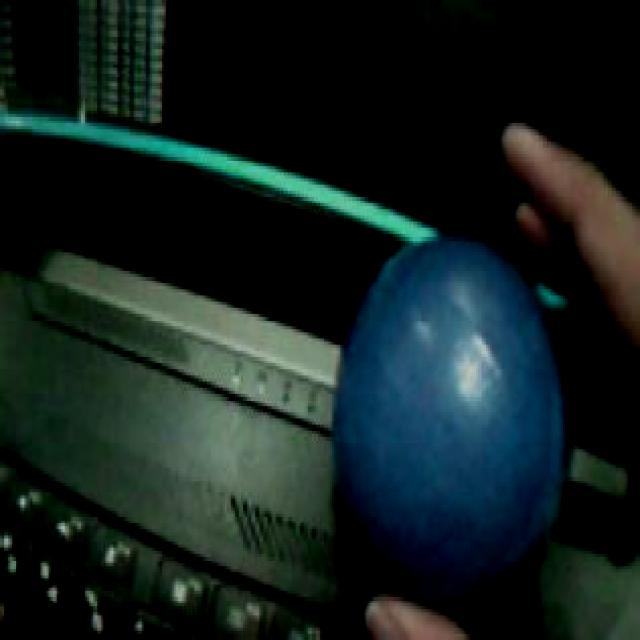BallPurple: (332, 232, 571, 604)
